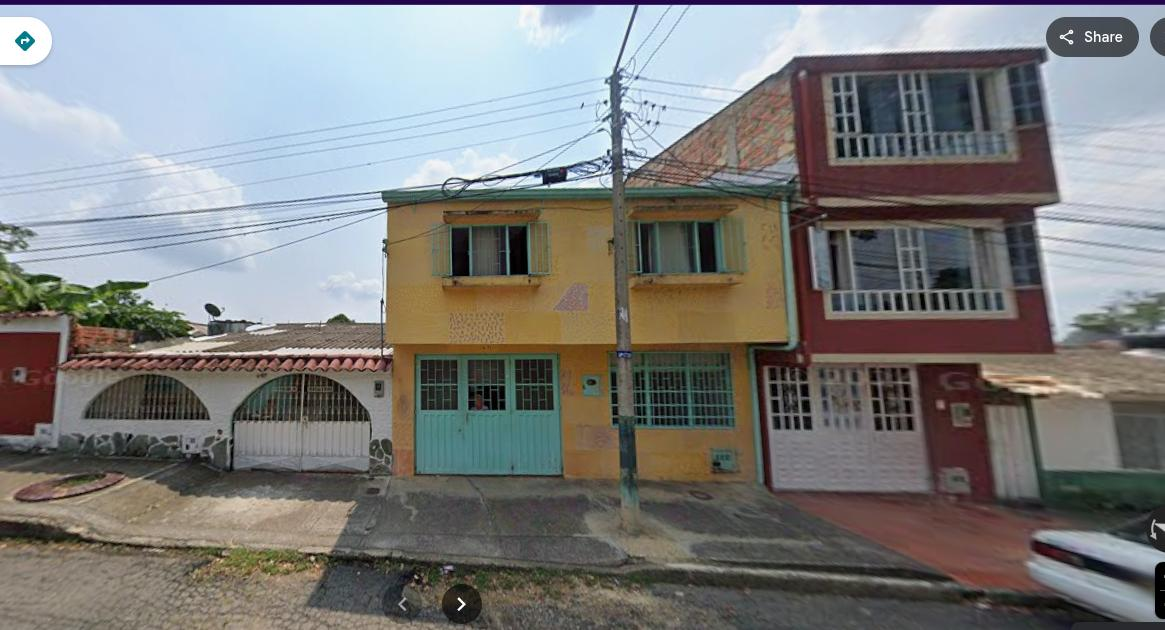casa: (633, 48, 1058, 499), (385, 188, 616, 478), (55, 323, 396, 474), (625, 187, 795, 479), (943, 335, 1164, 508)
poste: (608, 5, 640, 533)
